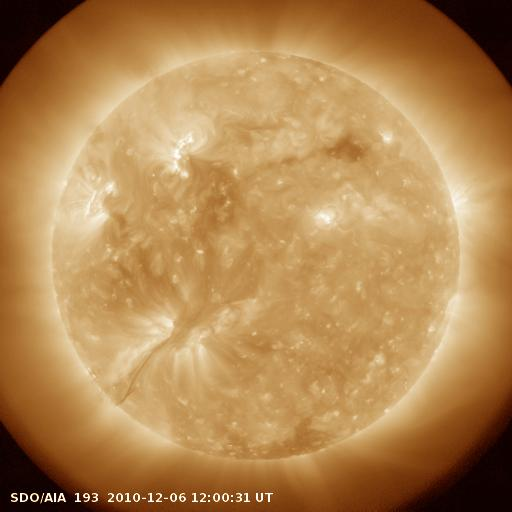coronal_hole: (242, 416, 335, 463), (320, 128, 371, 167)
